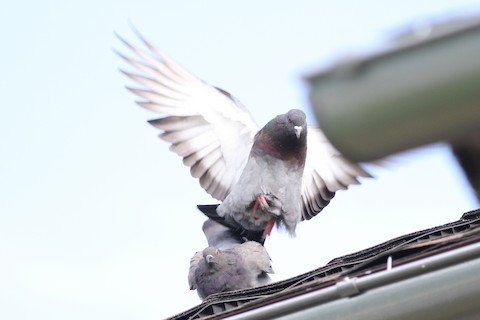pigeon: (108, 14, 391, 227), (180, 225, 284, 307)
